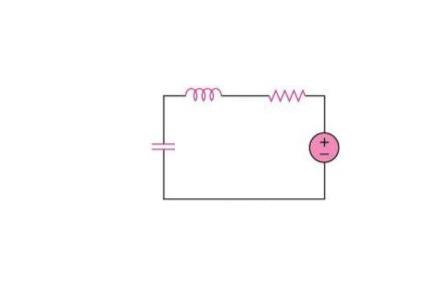resistor: (255, 79, 315, 109)
